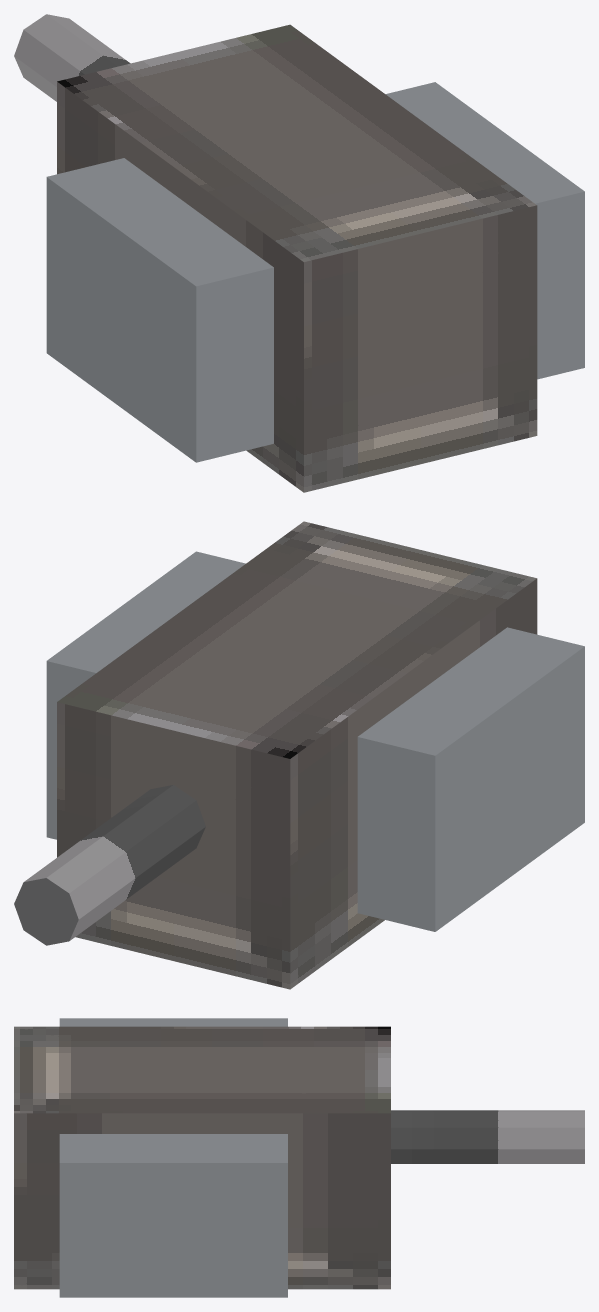
The model's file is Building_Turret_AncientArmoredTurret__Top.glb.
3 renders of one model, top to bottom at view 1: azimuth 30°, elevation 25°; view 2: azimuth 150°, elevation 25°; view 3: azimuth 270°, elevation 25°, orthographic. The views are drawn at different scales.
Visible parts, largest first — view 1: Turret_AncientArmoredTurret__Top; view 2: Turret_AncientArmoredTurret__Top; view 3: Turret_AncientArmoredTurret__Top.
Part boxes in pixels (bbox=[...]): Turret_AncientArmoredTurret__Top: bbox=[14, 14, 584, 492]; Turret_AncientArmoredTurret__Top: bbox=[14, 521, 584, 989]; Turret_AncientArmoredTurret__Top: bbox=[14, 1018, 584, 1297].
Bounding box in the file's own units: 0.6 × 0.34 × 1.
1 material, 1 textured.
